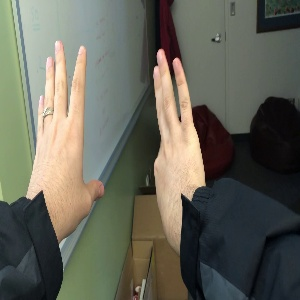hand: (30, 41, 104, 224), (153, 49, 206, 238)
